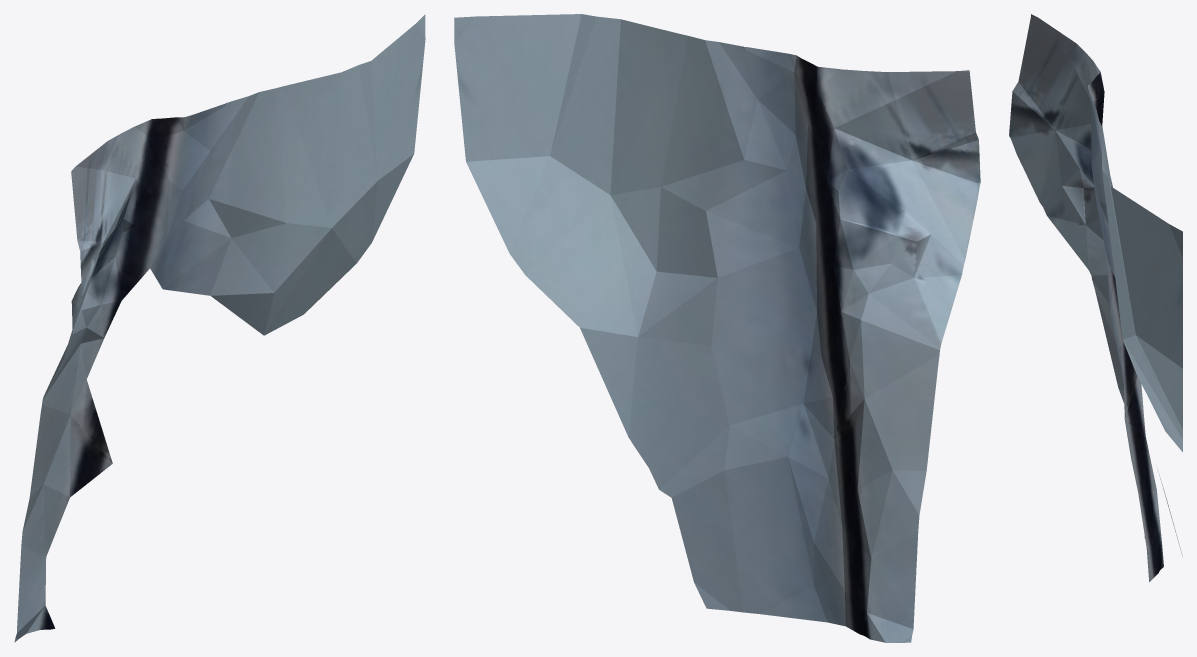
The picture shows the model from 3 angles, left to right: view 1: azimuth 30°, elevation 25°; view 2: azimuth 150°, elevation 25°; view 3: azimuth 270°, elevation 25°; orthographic projection. The views are drawn at different scales.
Size of the model in its own units: 1.46 by 1.67 by 0.492.
Materials: 2 (2 with a texture image).
